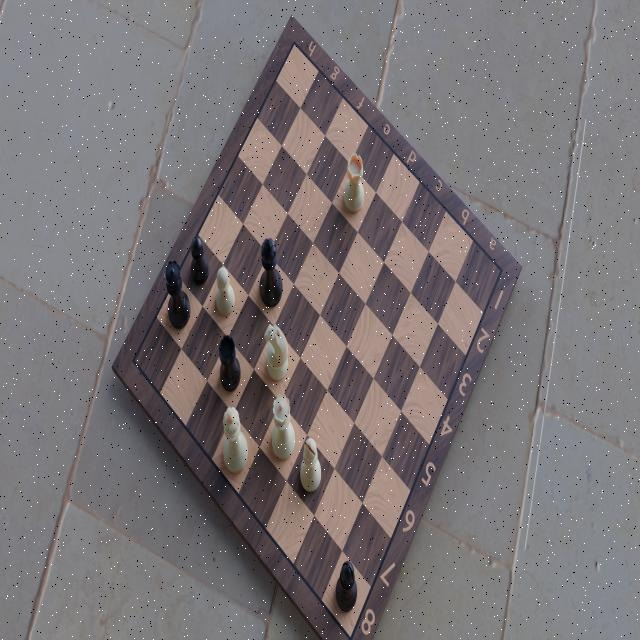black-bishop: (333, 559, 359, 617)
black-king: (257, 237, 282, 311)
black-pawn: (188, 234, 211, 286)
black-queen: (164, 259, 192, 333)
black-rook: (219, 334, 243, 397)
white-bishop: (298, 435, 322, 497)
white-king: (219, 405, 248, 479)
white-knight: (263, 322, 289, 385)
white-pawn: (212, 260, 236, 320)
white-queen: (268, 394, 295, 466)
white-rook: (340, 152, 363, 219)
